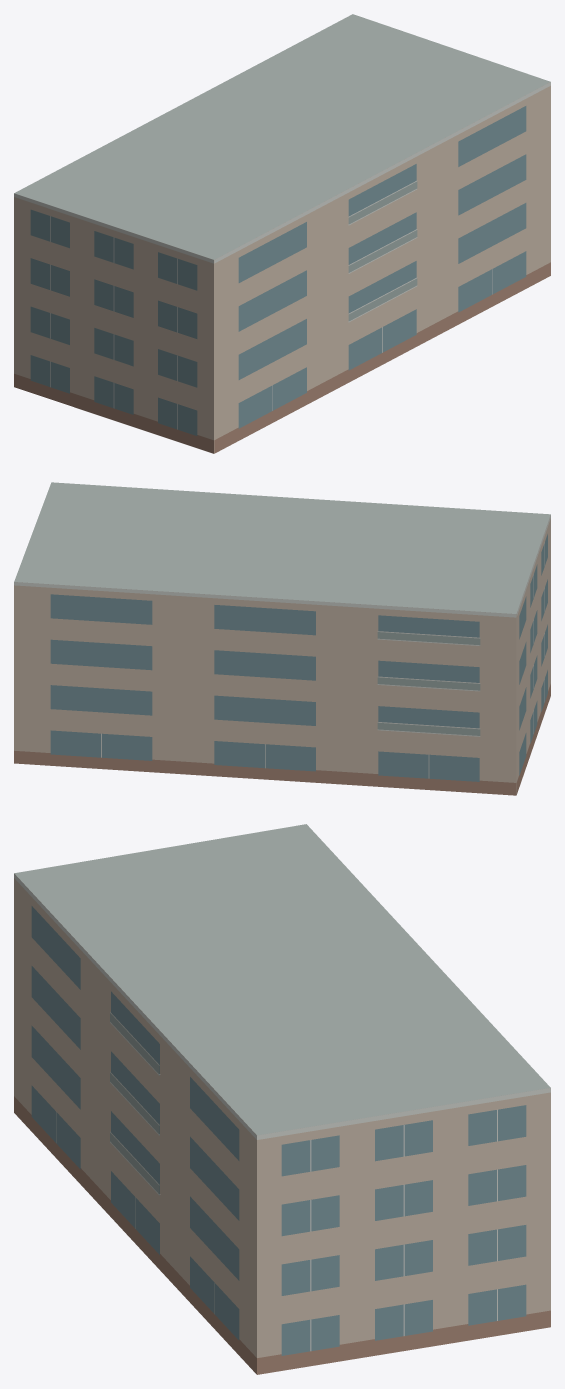
Rendered from survey-upis-32947059.glb.
3 renders of one model, top to bottom at view 1: azimuth 30°, elevation 25°; view 2: azimuth 150°, elevation 25°; view 3: azimuth 270°, elevation 25°, orthographic. The views are drawn at different scales.
Parts seen in each view (by area): view 1: survey-upis-32947059.tmp; view 2: survey-upis-32947059.tmp; view 3: survey-upis-32947059.tmp.
Part boxes in pixels (bbox=[...]): survey-upis-32947059.tmp: bbox=[14, 14, 550, 453]; survey-upis-32947059.tmp: bbox=[14, 482, 550, 795]; survey-upis-32947059.tmp: bbox=[14, 824, 550, 1374].
Bounding box in the file's own units: 35.15 × 12.6 × 25.61.
